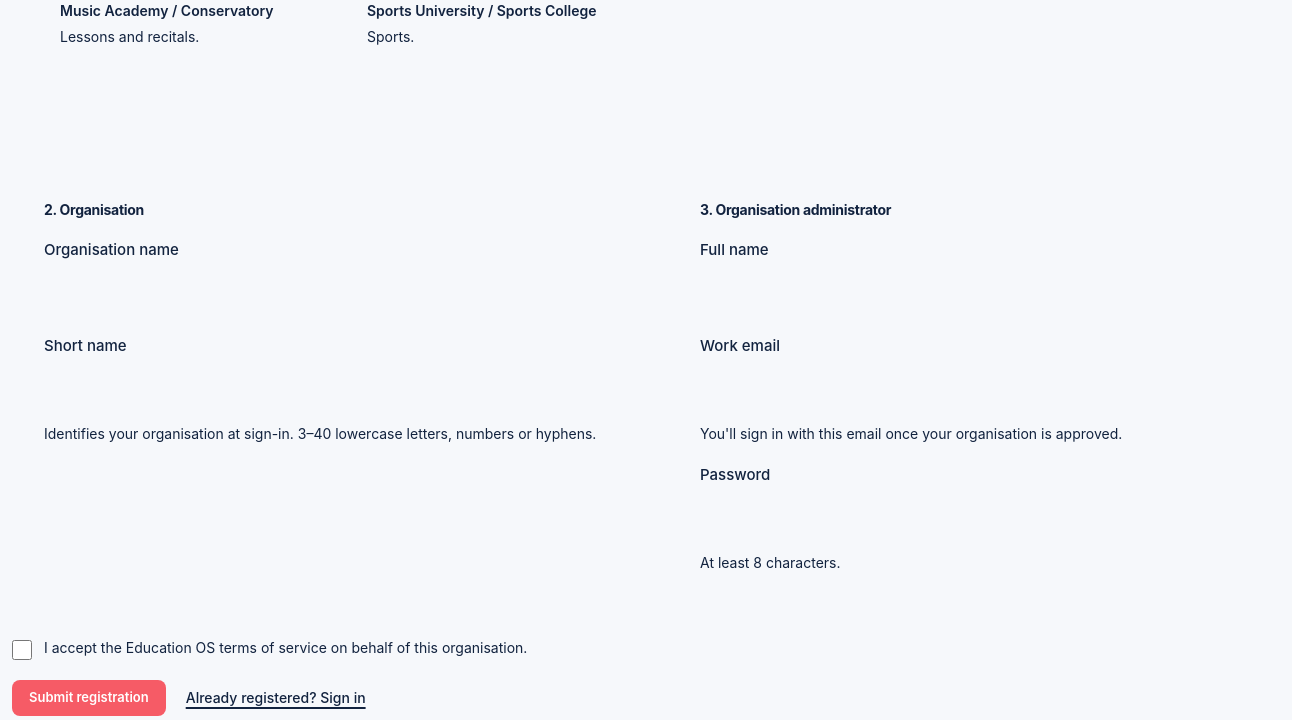
Test: RegisterPage: the form › clears a field's error as soon as it is fixed after a failed submit
(page scrolled)
Expected: the radio button labelled "Sports University / Sports College Sports." is shown, [367,2,625,45]
Click the button "Submit registration" at (89, 698), box [12,680,166,716]
(page scrolled)
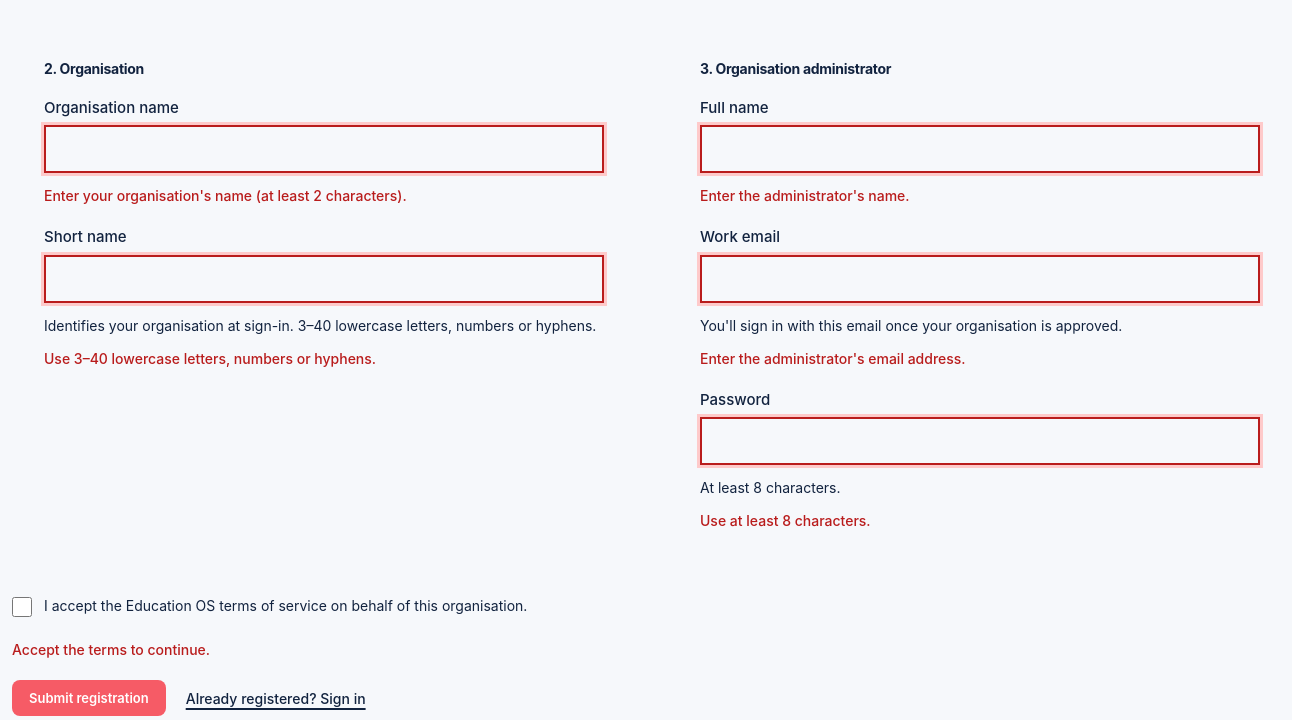
Expected: the text "Use at least 8 characters." is shown, [700,512,871,529]
Type "Passw0rd!x" into the password field labelled "Password" at (980, 441), box [700,417,1260,465]
(page scrolled)
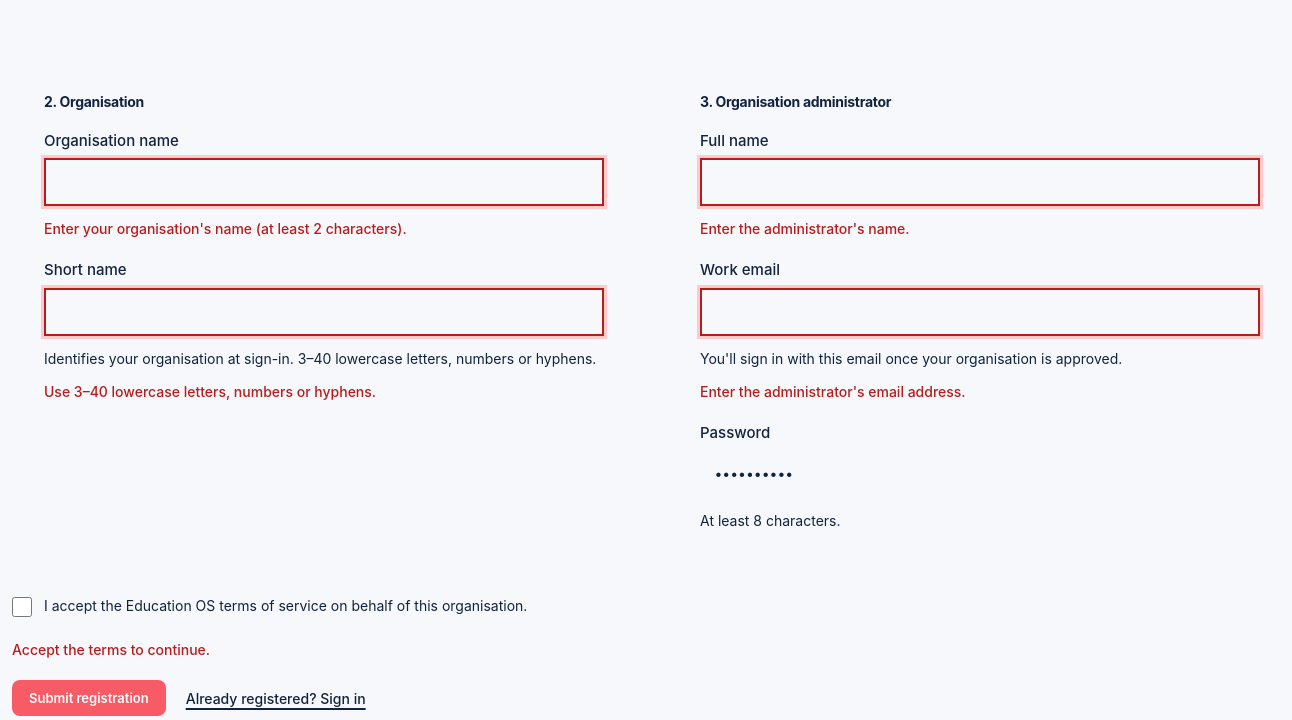
Expected: the text "Use at least 8 characters." is gone
